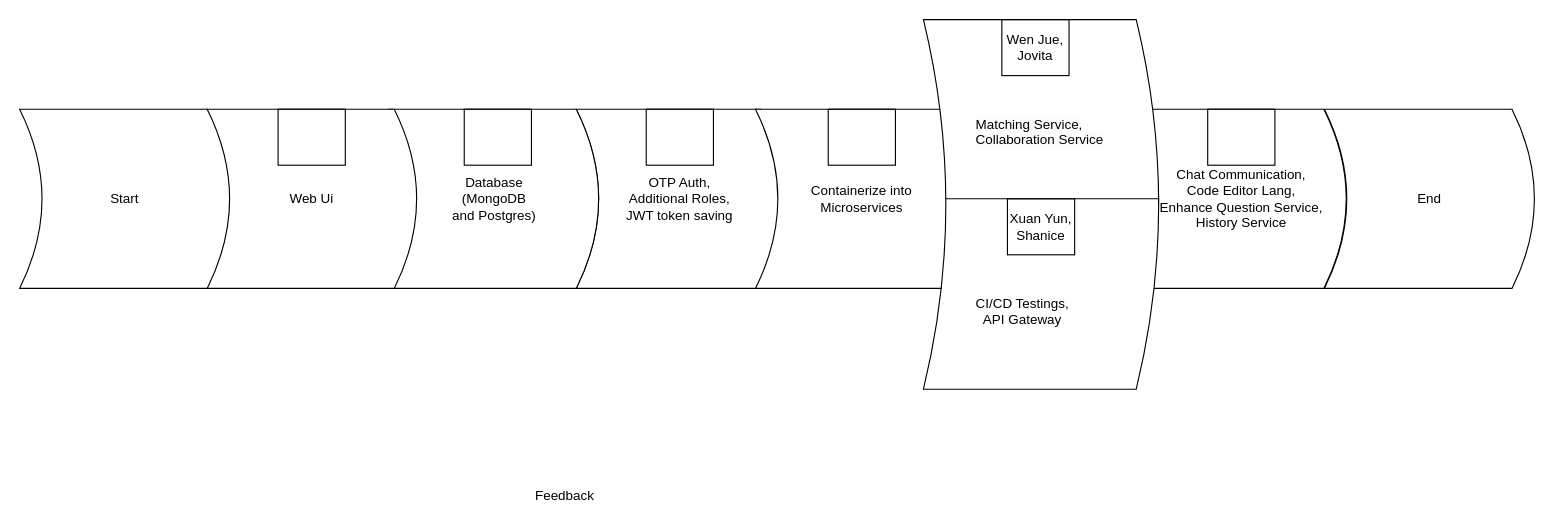
Image size: 1555x532. Some labels were removed from this diagram. Each missing label, with the centre of its shape:
"Jovita" belongs at pixel 311 136.
"Jun Da, Jovita, Wen Jue" belongs at pixel 1241 136.
"Shanice" belongs at pixel 861 136.
"Shanice, Jovita" belongs at pixel 497 136.
"Wen Jue, Xuan Yun, Jun Da" belongs at pixel 679 136.
